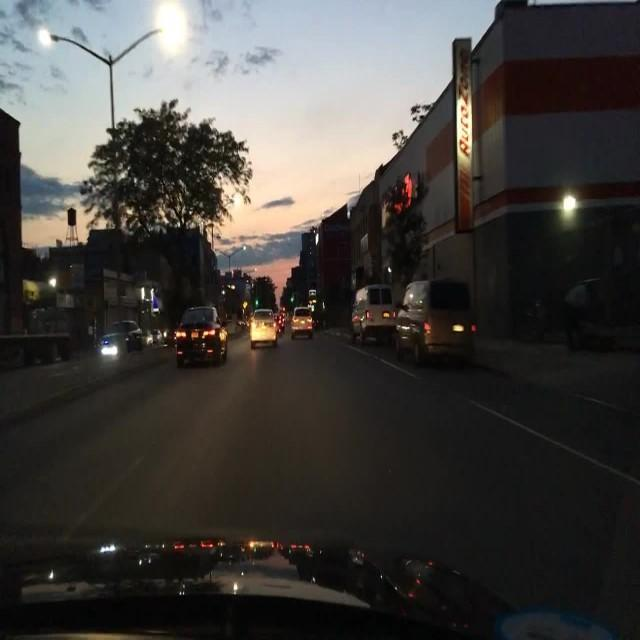normal: (147, 274, 326, 379), (350, 267, 496, 380)
